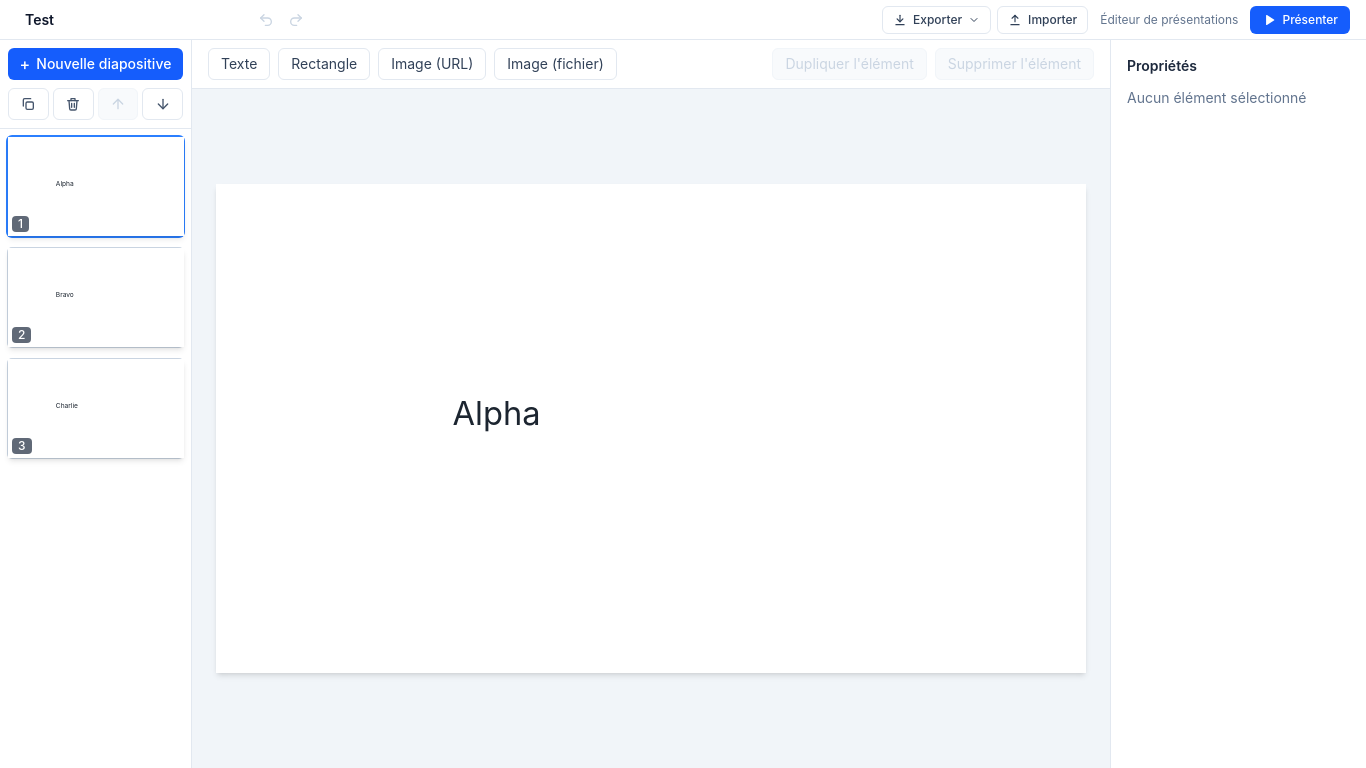
Scenario: EditorLayout : export PowerPoint › les avertissements apparaissent dans le bandeau de succès
The image size is (1366, 768).
Click the button "Exporter".
click(937, 20)  # box [882, 6, 991, 34]
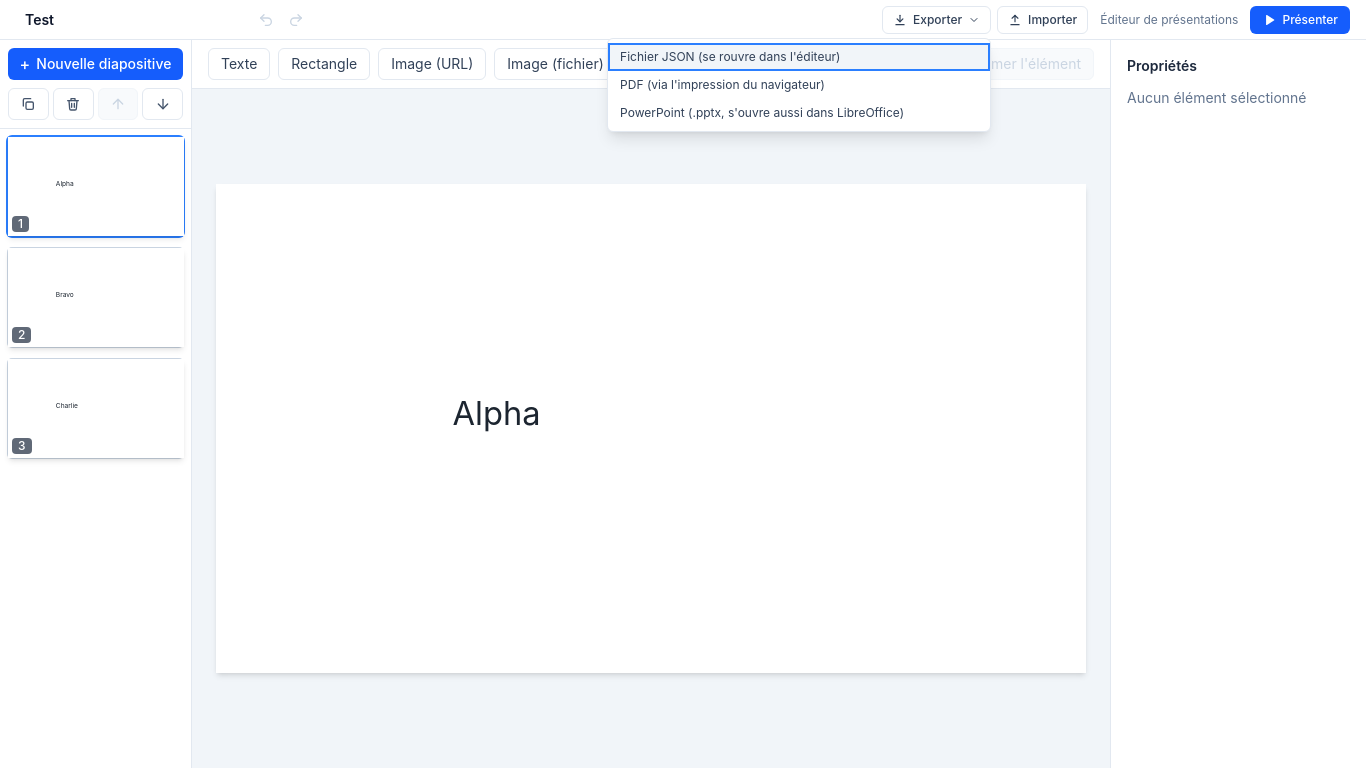
Click the menu item "PowerPoint (.pptx, s'ouvre aussi dans LibreOffice)".
click(799, 112)  # box [608, 98, 990, 126]
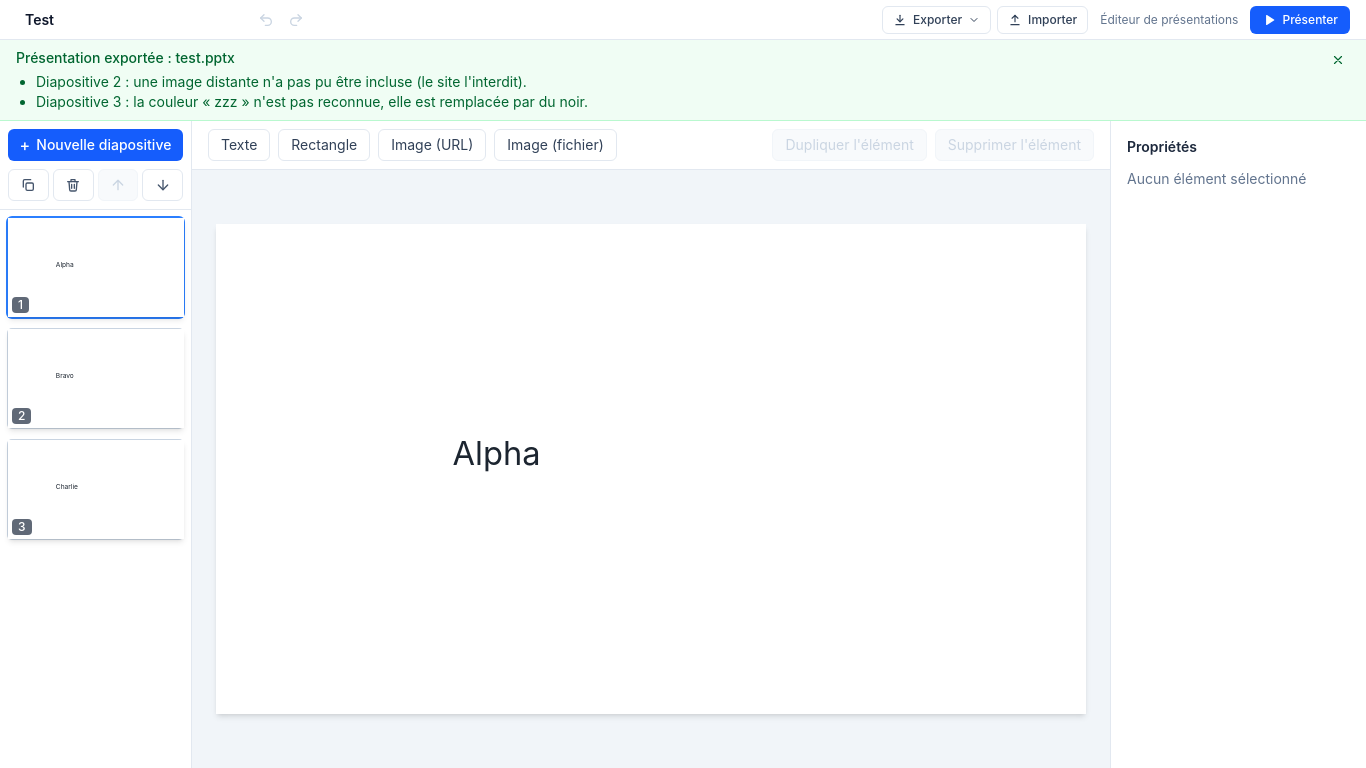
Now the message shows "Présentation exportée : test.pptx", box [16, 49, 235, 66]
